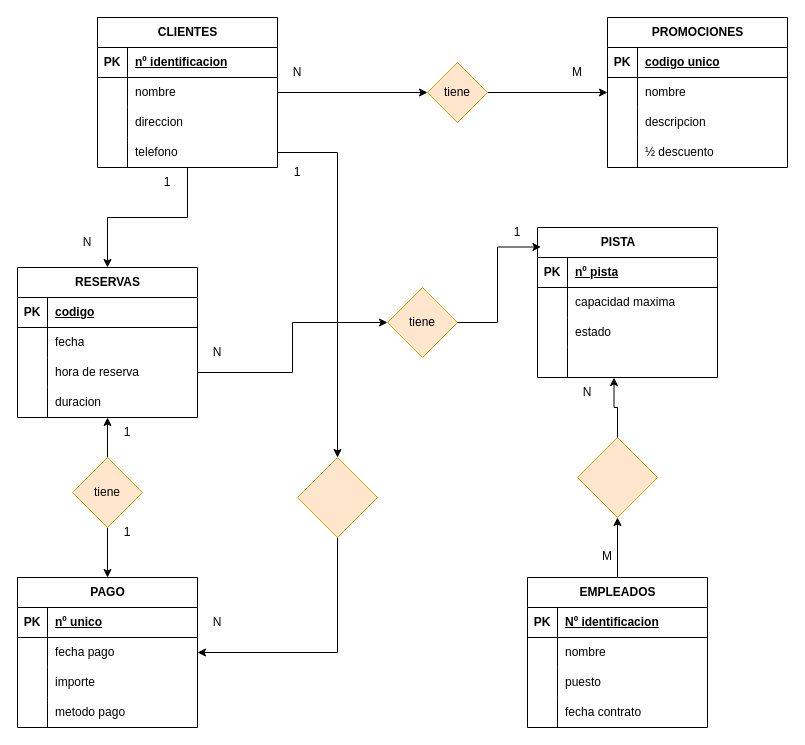
Some shapes in this 805 by 745 pixel diagram are drawn without their labels. The shapes that lost their labels are listed below. From the top down, each one's centre as x and y in pixels, then its label:
pixel 337 497: efectua
pixel 617 477: mantienen
